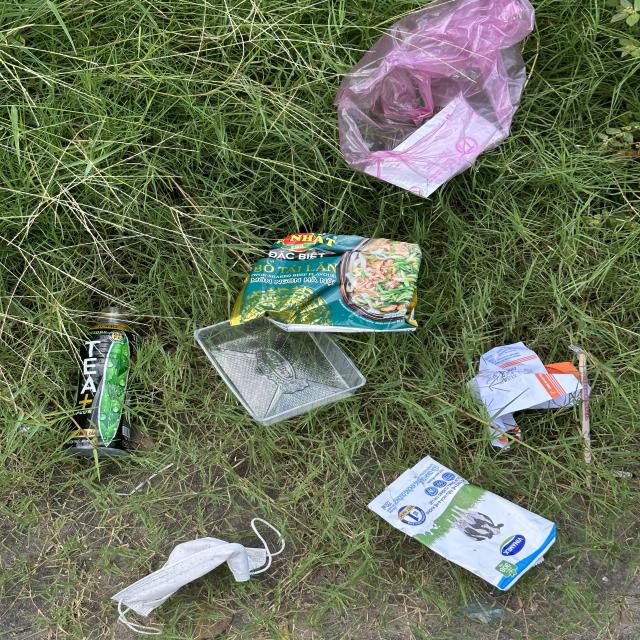bag: (333, 0, 537, 199)
bottle: (62, 307, 135, 458)
mask: (111, 516, 287, 634)
milk box: (366, 454, 558, 590)
paper: (464, 341, 581, 448)
plastic holder: (193, 318, 366, 426)
snack package: (230, 232, 422, 334)
